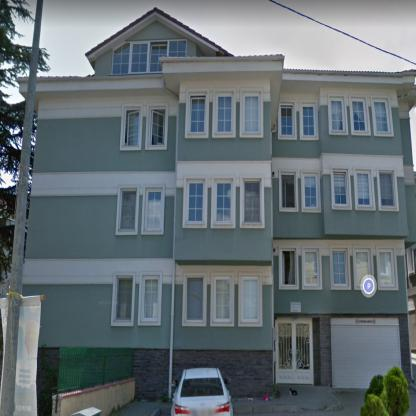door: (275, 317, 313, 384)
window: (112, 39, 186, 74), (240, 174, 264, 228), (111, 272, 135, 326), (138, 272, 162, 326), (183, 175, 207, 227), (211, 175, 235, 227), (211, 272, 234, 326), (183, 273, 206, 326), (239, 273, 262, 326), (240, 87, 263, 138), (116, 184, 139, 235), (213, 88, 236, 138), (142, 185, 165, 234), (186, 89, 209, 137), (146, 103, 168, 149), (330, 166, 352, 210), (376, 246, 398, 290), (121, 104, 142, 150), (376, 168, 399, 210), (352, 246, 374, 289), (370, 95, 393, 136), (330, 245, 351, 289), (354, 166, 374, 210), (279, 245, 299, 289), (349, 94, 370, 135), (302, 246, 322, 289), (327, 94, 348, 134), (301, 170, 321, 212), (279, 169, 298, 211), (278, 100, 297, 139), (300, 100, 318, 140), (407, 248, 414, 275)
